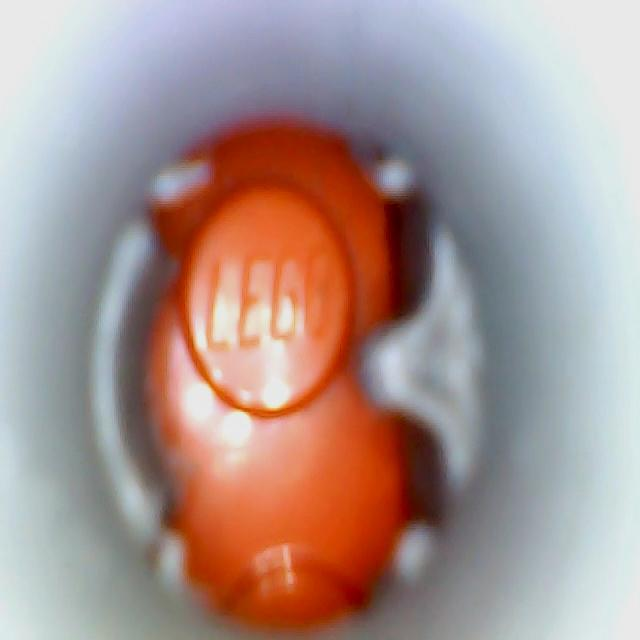studs: (180, 183, 353, 415), (216, 543, 361, 625)
